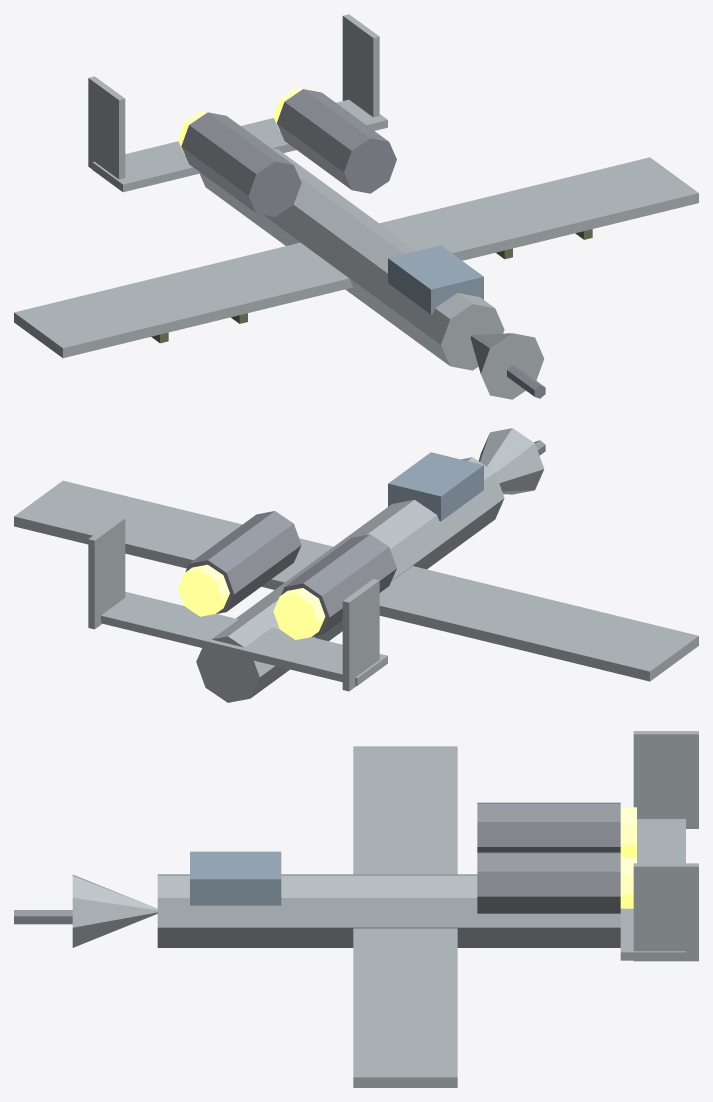
The model's file is warthog.glb.
3 renders of one model, top to bottom at view 1: azimuth 30°, elevation 25°; view 2: azimuth 150°, elevation 25°; view 3: azimuth 270°, elevation 25°, orthographic. The views are drawn at different scales.
Visible parts, largest first — view 1: warthog; view 2: warthog; view 3: warthog.
Boxes of the visible parts, <box> form: warthog: <box>14,14,698,399</box>; warthog: <box>14,428,698,702</box>; warthog: <box>14,731,698,1087</box>.
Size of the model in its own units: 12 by 2.5 by 10.5.
